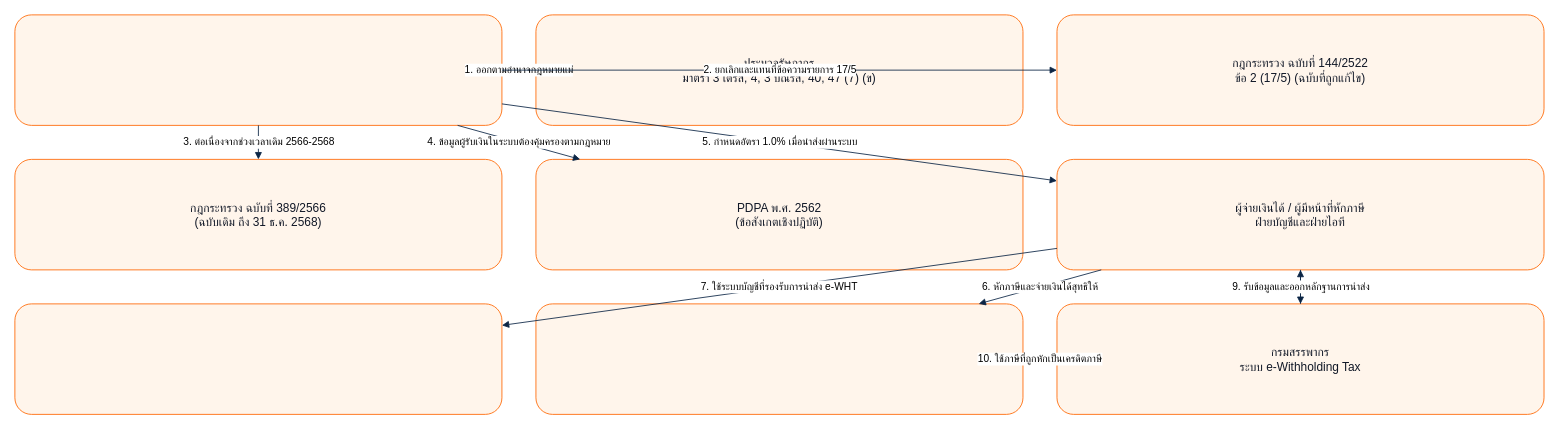
Image size: 1559x429. Some labels were removed from this diagram. The shapes that lost their labels are listed below. From the top down, each one's centre as x and y in pixels, then its label:
At (x=258, y=69): "📜 กฎกระทรวง ฉบับที่ 402/2569 ลดอัตราหักภาษี ณ ที่จ่าย e-WHT".
At (x=258, y=358): "ผู้พัฒนาระบบบัญชี ERP และระบบจ่ายเงิน".
At (x=779, y=358): "ผู้รับเงินได้ บริษัท ผู้ประกอบการ นักแสดงสาธารณะ".
